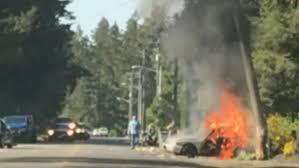fire: (180, 85, 269, 156)
